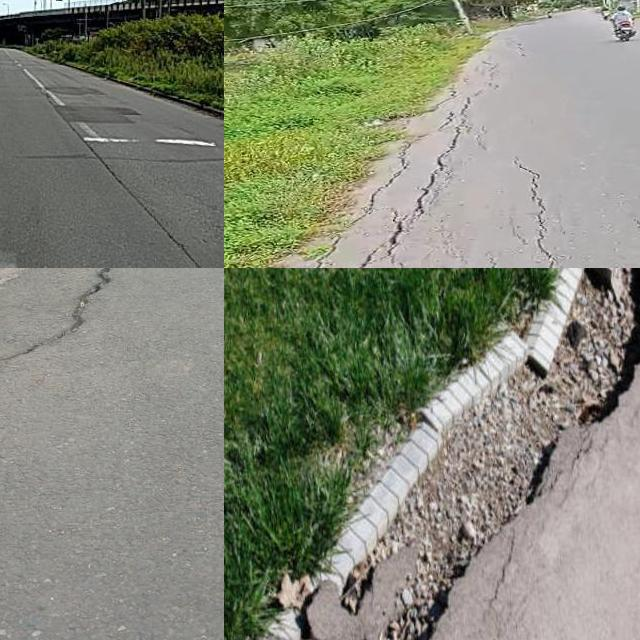Memanjang: (33, 74, 223, 268), (0, 268, 126, 382), (508, 154, 566, 268)
Pinggir: (225, 268, 640, 640)
